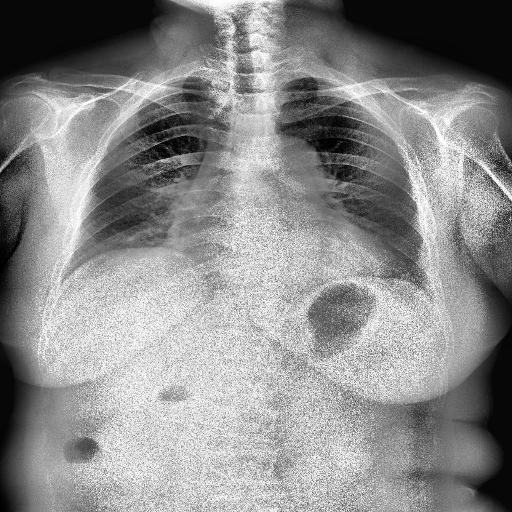0- Aortic enlargement: (260, 135, 329, 203), (261, 134, 331, 200), (260, 132, 326, 188)
3- Cardiomegaly: (162, 213, 402, 281), (168, 212, 406, 280), (164, 230, 398, 284)
